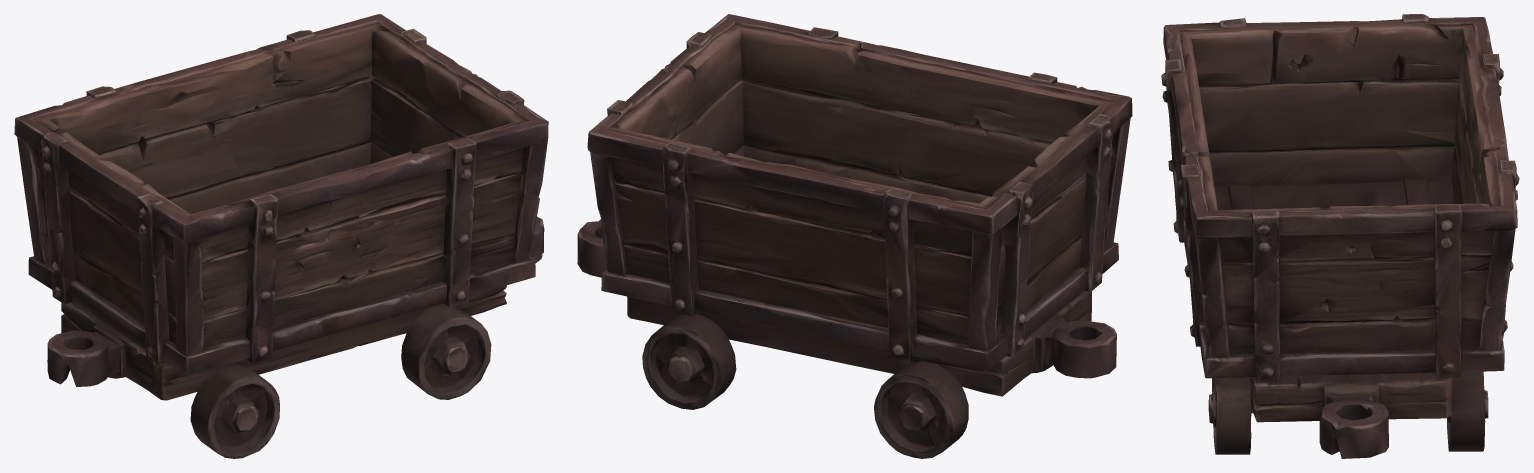
The model's file is mine_cart_wood_idle.glb.
3 views of the same model, side by side, from view 1: azimuth 30°, elevation 25°; view 2: azimuth 150°, elevation 25°; view 3: azimuth 270°, elevation 25° (orthographic). The views are drawn at different scales.
Visible parts, largest first — view 1: tripo_node_59b3b1a3-da21-443e-84be-9f44c4ef99a5; view 2: tripo_node_59b3b1a3-da21-443e-84be-9f44c4ef99a5; view 3: tripo_node_59b3b1a3-da21-443e-84be-9f44c4ef99a5.
Boxes of the visible parts, bbox=[...] form: tripo_node_59b3b1a3-da21-443e-84be-9f44c4ef99a5: bbox=[14, 14, 548, 458]; tripo_node_59b3b1a3-da21-443e-84be-9f44c4ef99a5: bbox=[577, 14, 1132, 458]; tripo_node_59b3b1a3-da21-443e-84be-9f44c4ef99a5: bbox=[1161, 14, 1519, 458].
Size of the model in its own units: 2.37 by 1.2 by 1.4.
Materials: 1 (1 with a texture image).
